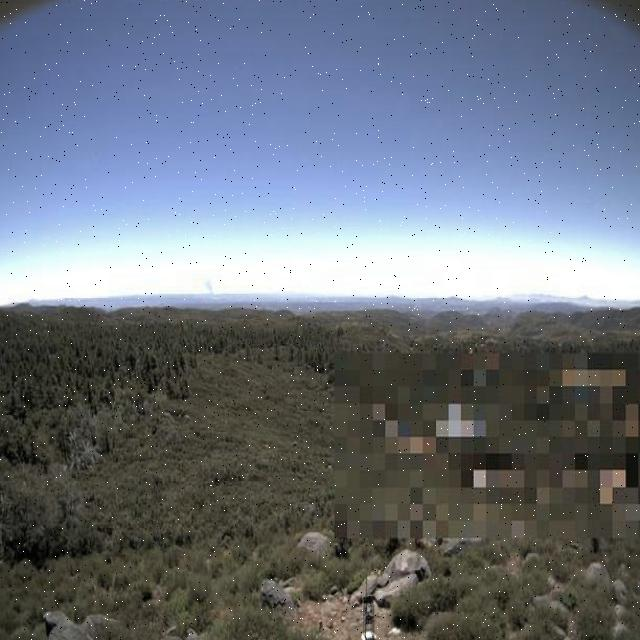smoke: (202, 273, 220, 297)
